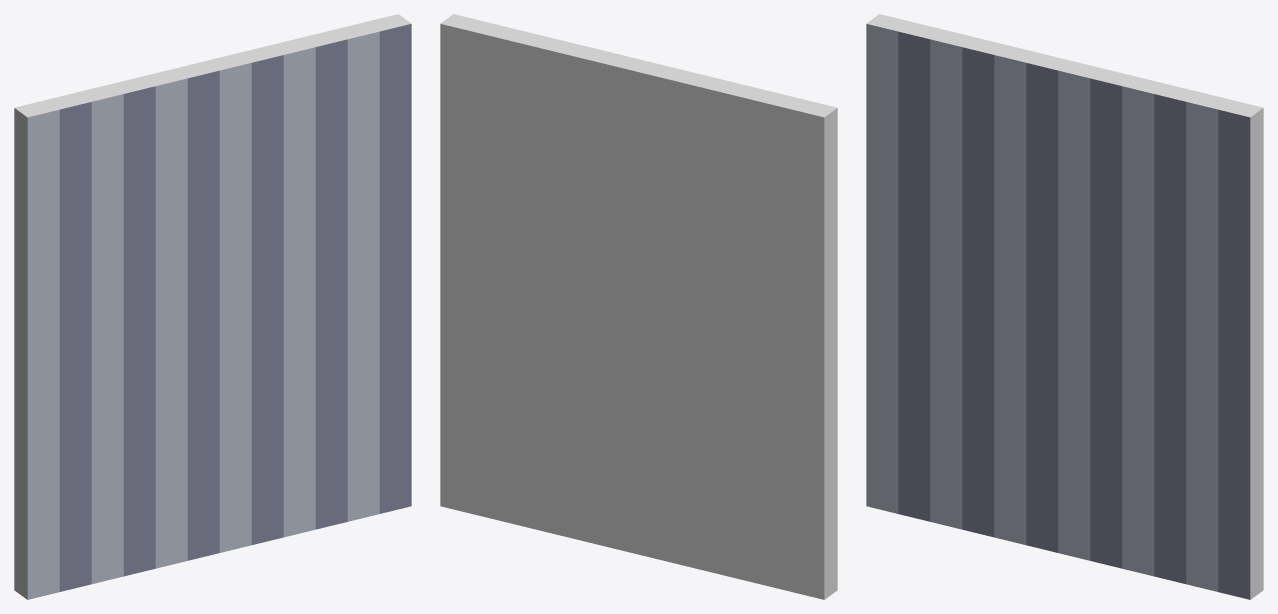
File: Wall1_C8_01.fbx
3 renders of one model, left to right at view 1: azimuth 30°, elevation 25°; view 2: azimuth 150°, elevation 25°; view 3: azimuth 330°, elevation 25°, orthographic.
Visible parts, largest first — view 1: Wall1_C8_01; view 2: Wall1_C8_01; view 3: Wall1_C8_01.
Boxes of the visible parts, left/top/right/bottom form: Wall1_C8_01: left=14, top=14, right=411, bottom=599; Wall1_C8_01: left=440, top=14, right=837, bottom=599; Wall1_C8_01: left=866, top=14, right=1263, bottom=599.
Size of the model in its own units: 250 by 300 by 15.
